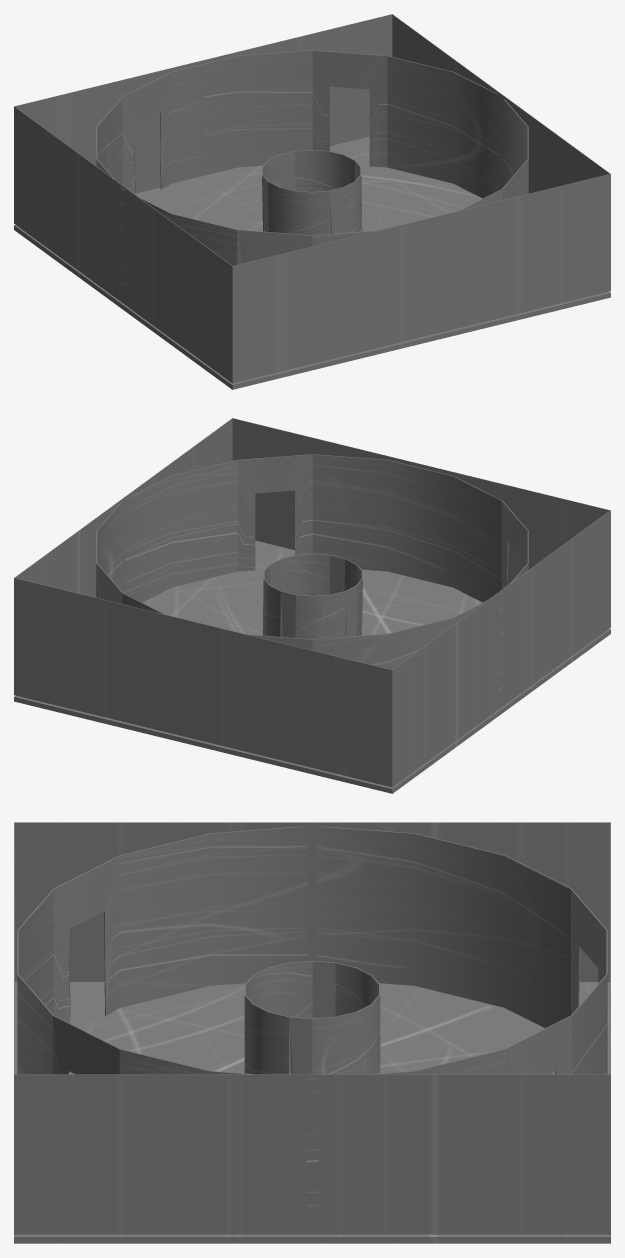
Rendered from Map2.FBX.
3 renders of one model, top to bottom at view 1: azimuth 30°, elevation 25°; view 2: azimuth 150°, elevation 25°; view 3: azimuth 270°, elevation 25°, orthographic. The views are drawn at different scales.
Parts seen in each view (by area): view 1: Plane001, Cylinder002, Cylinder001, Object001; view 2: Plane001, Cylinder002, Cylinder001, Object001; view 3: Plane001, Cylinder002, Cylinder001, Object001.
Boxes of the visible parts, x1,y1,x2,y2 form: Plane001: (14, 14, 610, 383); Cylinder002: (96, 50, 528, 301); Cylinder001: (262, 149, 362, 235); Object001: (14, 225, 610, 389); Plane001: (14, 418, 610, 787); Cylinder002: (96, 454, 528, 705); Cylinder001: (262, 553, 362, 639); Object001: (14, 629, 610, 793); Plane001: (14, 822, 610, 1234); Cylinder002: (17, 826, 607, 1231); Cylinder001: (244, 961, 380, 1074); Object001: (14, 1234, 610, 1243).
Bounding box in the file's own units: 1808 × 561 × 1800.
1 material, 1 textured.
